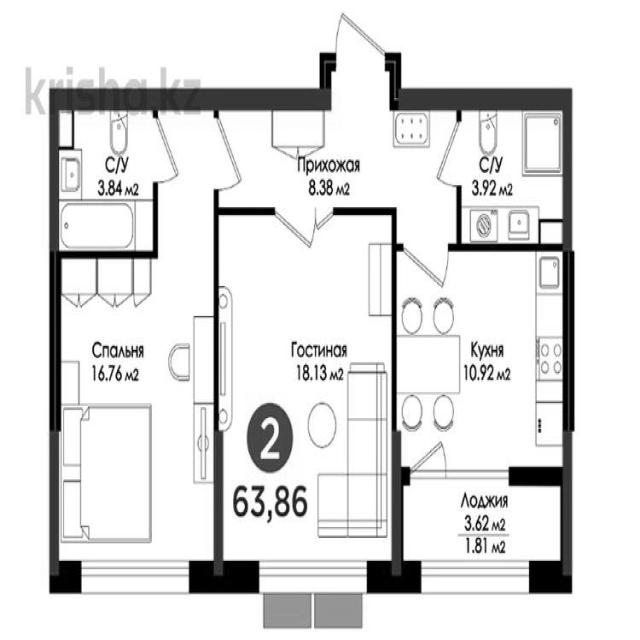balcony: (396, 477, 568, 583)
bathroom: (457, 95, 569, 243), (55, 101, 157, 252)
hallway: (156, 93, 455, 209)
kitchen: (397, 247, 568, 470)
living_room: (216, 210, 394, 582), (53, 253, 214, 582)
